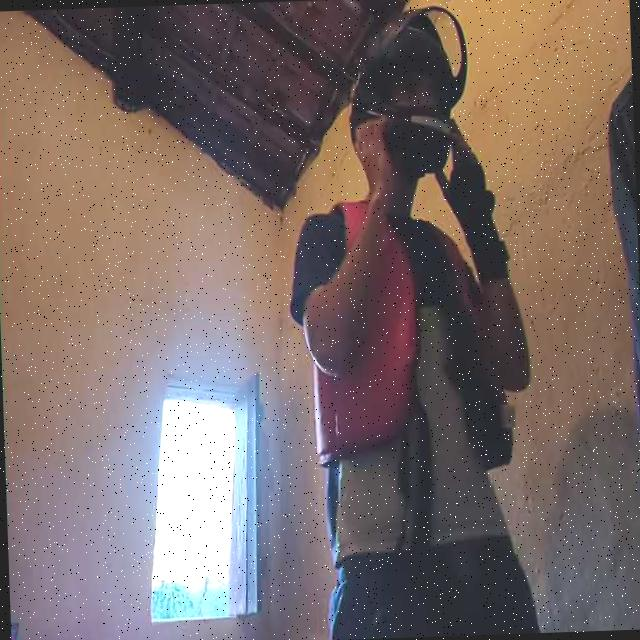capacete: (332, 12, 480, 181)
colete: (300, 193, 501, 480)
pessoa: (294, 66, 540, 640)
